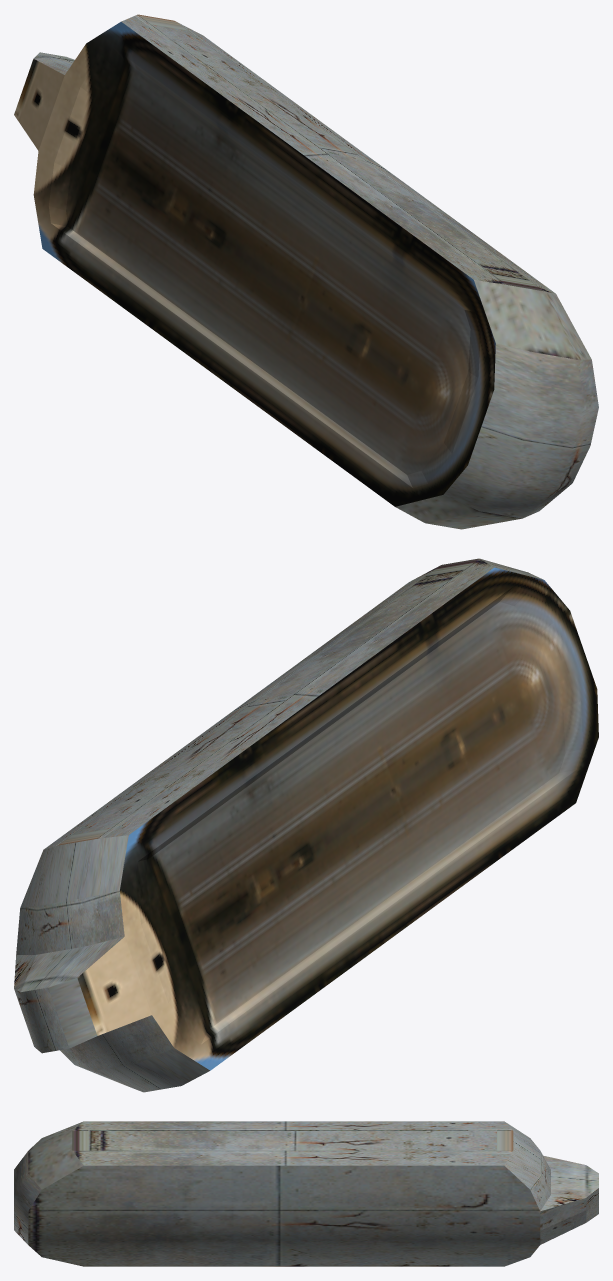
File: roadlight A.FBX
The picture shows the model from 3 angles, top to bottom: view 1: azimuth 30°, elevation 25°; view 2: azimuth 150°, elevation 25°; view 3: azimuth 270°, elevation 25°; orthographic projection. The views are drawn at different scales.
Parts seen in each view (by area): view 1: Box001; view 2: Box001; view 3: Box001.
Part boxes in pixels (left/top/right/bottom): Box001: left=14, top=14, right=598, bottom=529; Box001: left=14, top=558, right=598, bottom=1092; Box001: left=14, top=1121, right=598, bottom=1266.
Size of the model in its own units: 5.29 by 7.58 by 27.83.
